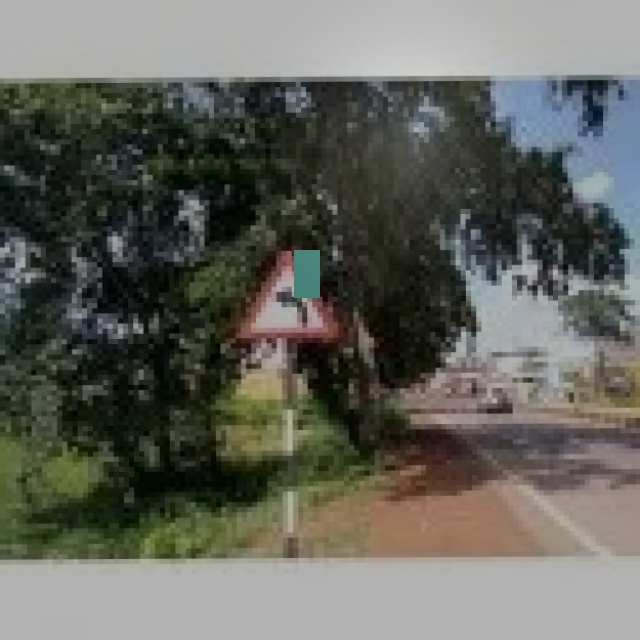Left_Hand_Curve: (238, 247, 338, 346)
